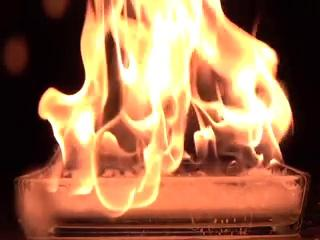Fire: (10, 1, 280, 206)
